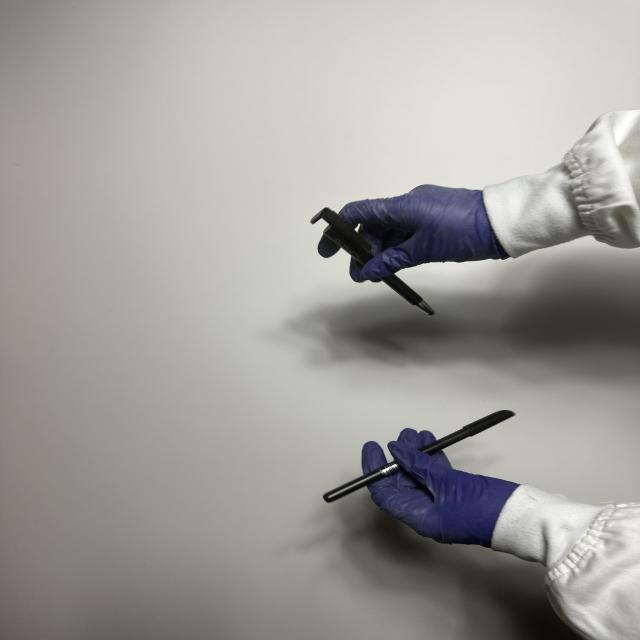gloves_contaminated: (362, 428, 518, 547), (338, 185, 508, 282), (318, 237, 339, 258)
